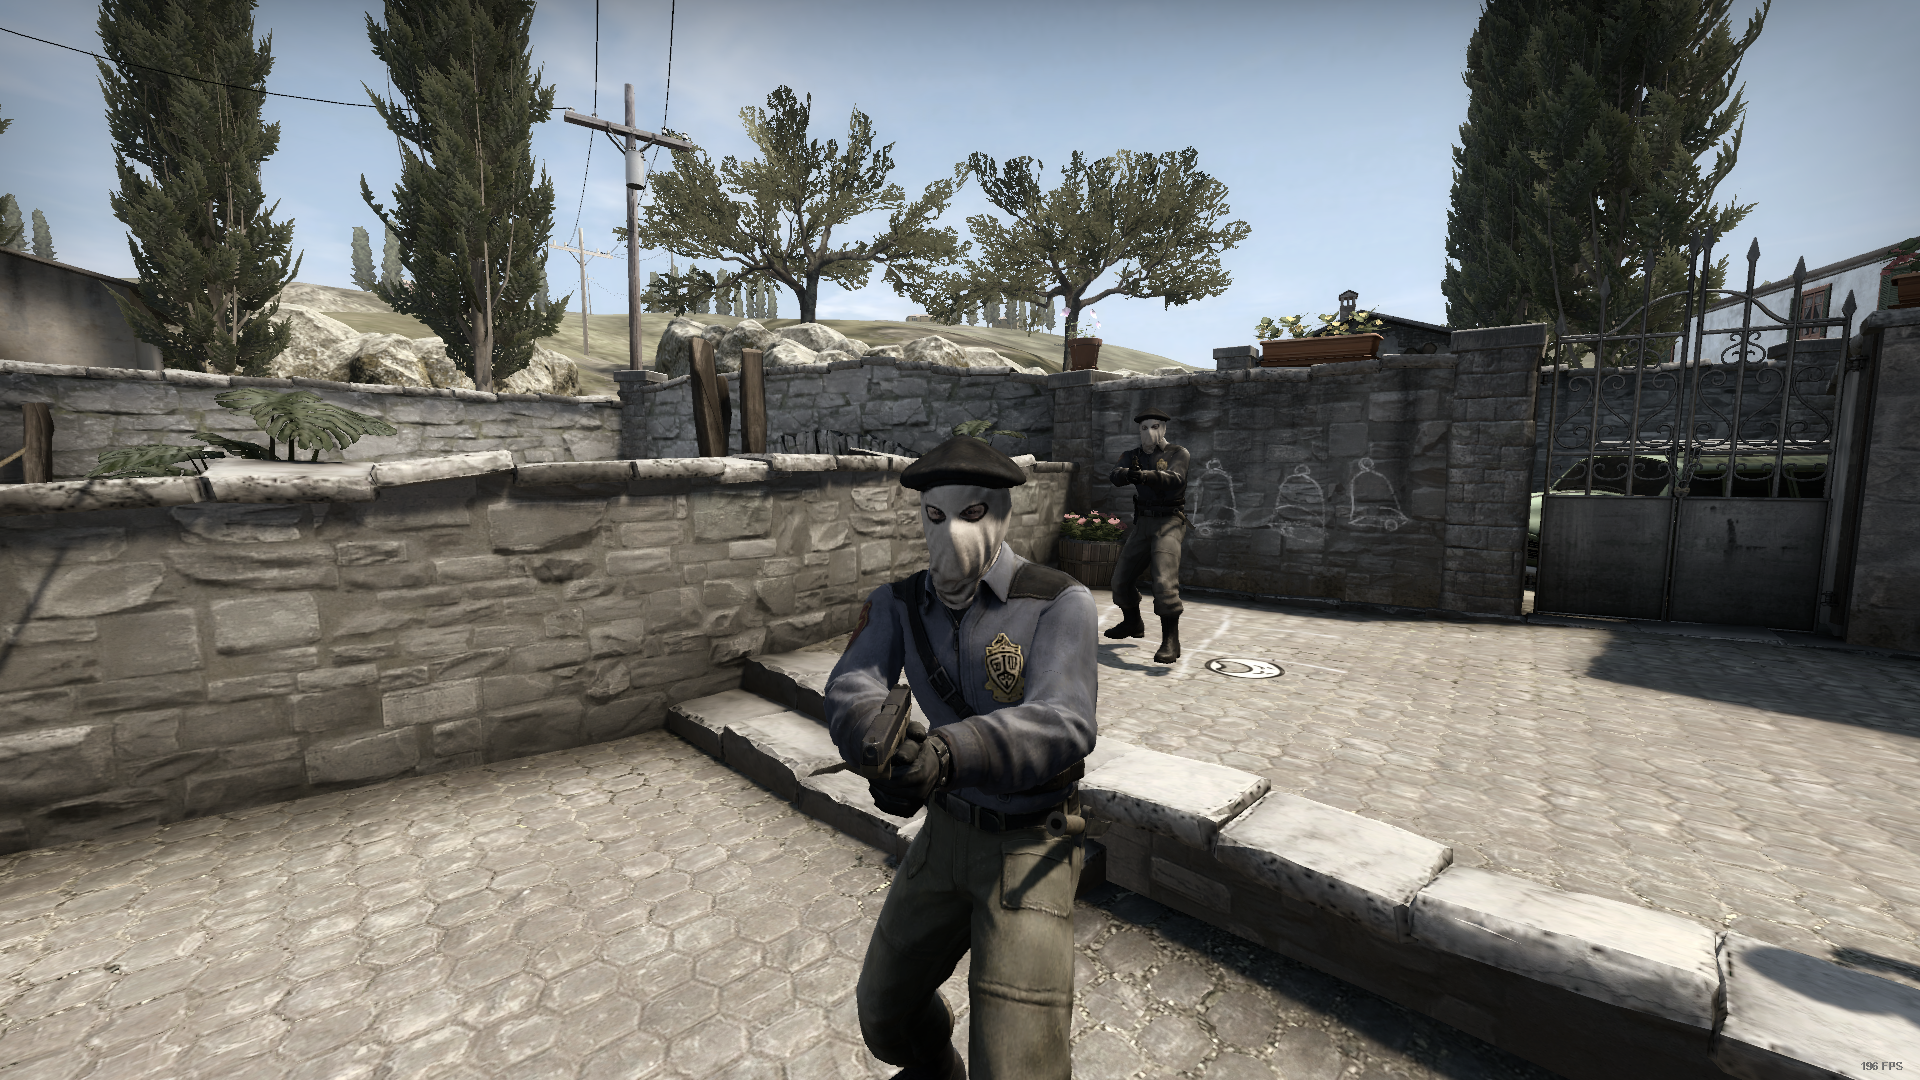t: (833, 433, 1101, 1080), (1104, 411, 1192, 662)
